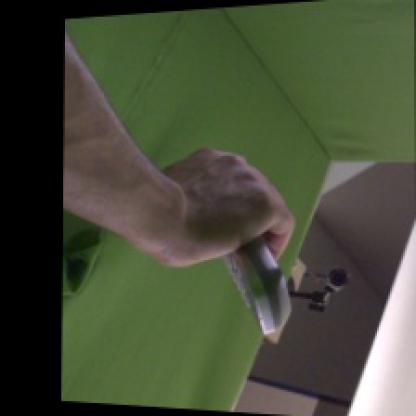Hand: (147, 145, 295, 270)
